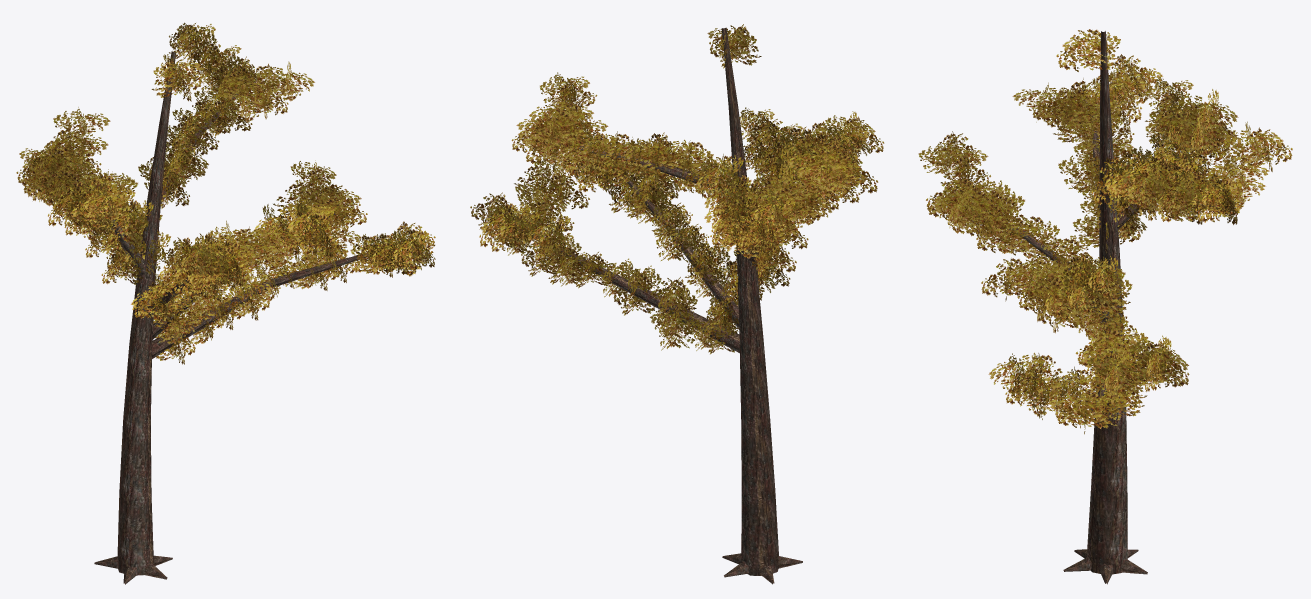
Rendered from tree_3d_04_yellow_lod1.glb.
3 views of the same model, side by side, from view 1: azimuth 30°, elevation 25°; view 2: azimuth 150°, elevation 25°; view 3: azimuth 270°, elevation 25° (orthographic). The views are drawn at different scales.
Visible parts, largest first — view 1: foliage_cards, wood_geometry; view 2: foliage_cards, wood_geometry; view 3: foliage_cards, wood_geometry.
Part boxes in pixels (x1,y1,x2,y2): foliage_cards: (16,22,435,364); wood_geometry: (78,51,373,584); foliage_cards: (470,24,884,354); wood_geometry: (522,27,829,584); foliage_cards: (918,29,1292,434); wood_geometry: (981,31,1216,584).
Bounding box in the file's own units: 9.37 × 11.58 × 7.14.
Materials: 2 (2 with a texture image).
